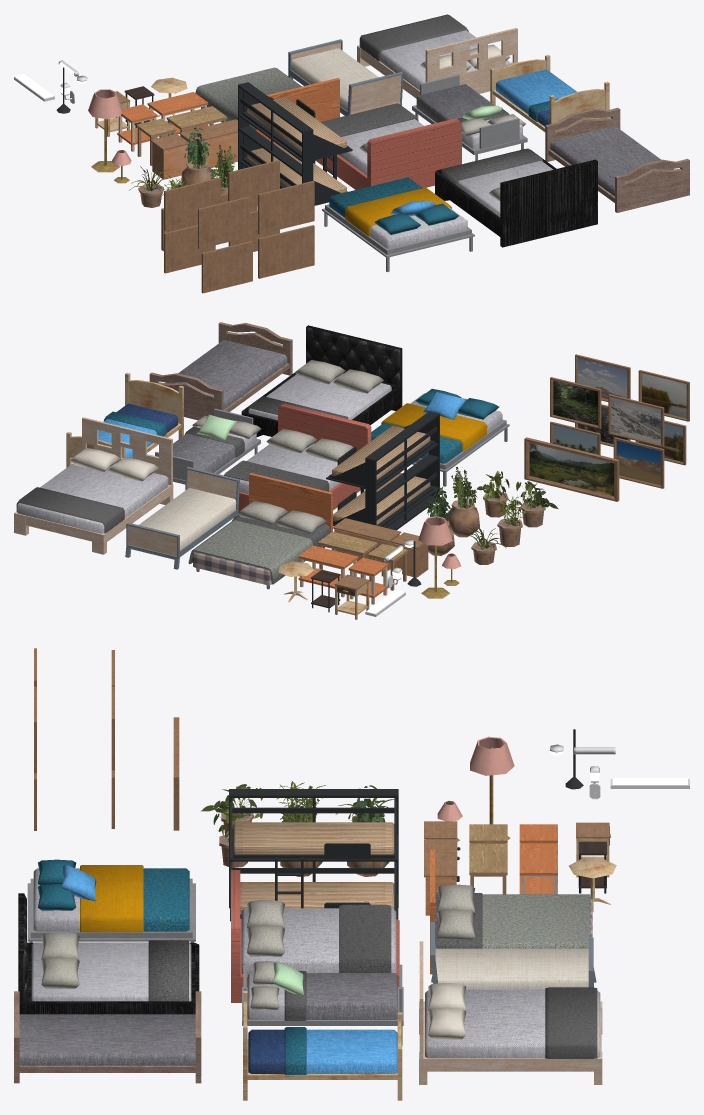
The model's file is deds_others.glb.
The picture shows the model from 3 angles, top to bottom: view 1: azimuth 30°, elevation 25°; view 2: azimuth 150°, elevation 25°; view 3: azimuth 270°, elevation 25°; orthographic projection. The views are drawn at different scales.
Parts seen in each view (by area): view 1: Bed_01, Bed_05, Bed, Bed_06, Bed_07, Bed_02, Bed_03, Bed_08, Bed_04, Bed_09, Paintings_06, Paintings_08 (+22 smaller); view 2: Bed_07, Bed_06, Bed_01, Bed_09, Bed, Bed_05, Bed_08, Bed_03, Paintings, Bed_02, Bed_04, Paintings_03 (+34 smaller); view 3: Bed_06, Bed_07, Bed_01, Bed, Bed_02, Bed_05, Bed_03, Bed_09, Bed_04, Bed_08, Table_38, Lamps_01 (+24 smaller).
Boxes of the visible parts, box(x1,y1,x2,y2) form: Bed_01: box(435, 148, 597, 247); Bed_05: box(315, 103, 461, 189); Bed: box(545, 107, 689, 212); Bed_06: box(238, 82, 352, 205); Bed_07: box(357, 14, 517, 98); Bed_02: box(322, 177, 474, 271); Bed_03: box(490, 55, 609, 131); Bed_08: box(288, 39, 403, 115); Bed_04: box(412, 74, 527, 160); Bed_09: box(195, 67, 339, 144); Paintings_06: box(258, 225, 314, 278); Paintings_08: box(258, 181, 314, 234); Bed_07: box(14, 417, 173, 554); Bed_06: box(326, 411, 439, 530); Bed_01: box(241, 325, 402, 436); Bed_09: box(188, 473, 332, 589); Bed: box(149, 322, 292, 420); Bed_05: box(224, 403, 371, 511); Bed_08: box(125, 467, 239, 569); Bed_03: box(66, 372, 183, 467); Paintings: box(524, 437, 619, 501); Bed_02: box(371, 393, 509, 486); Bed_04: box(155, 408, 260, 484); Paintings_03: box(608, 394, 664, 446); Bed_06: box(229, 789, 398, 921); Bed_07: box(419, 941, 602, 1084); Bed_01: box(18, 893, 199, 1014); Bed: box(14, 991, 201, 1083); Bed_02: box(27, 865, 195, 942); Bed_05: box(231, 870, 399, 1002); Bed_03: box(243, 990, 402, 1100); Bed_09: box(430, 849, 592, 974); Bed_04: box(242, 964, 403, 1044); Bed_08: box(430, 922, 596, 989); Table_38: box(519, 843, 557, 894); Lamps_01: box(470, 736, 514, 839).
Size of the model in its own units: 11.61 by 2.46 by 10.54.
36 materials, 34 textured.
